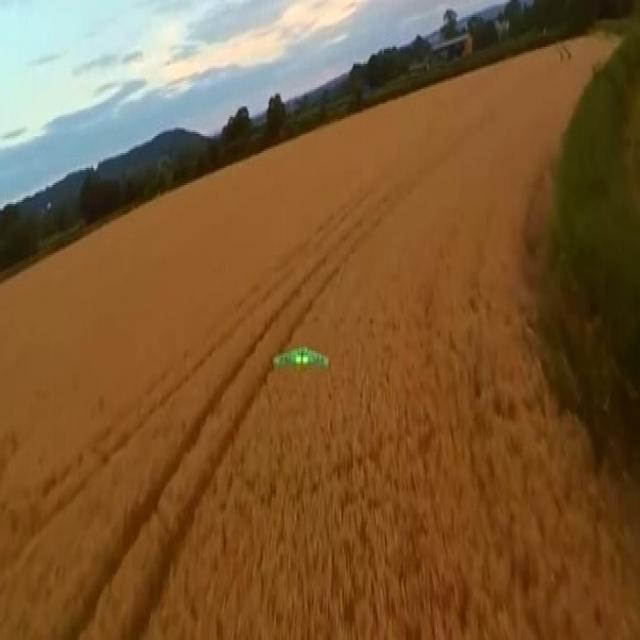iha: (268, 343, 332, 371)
